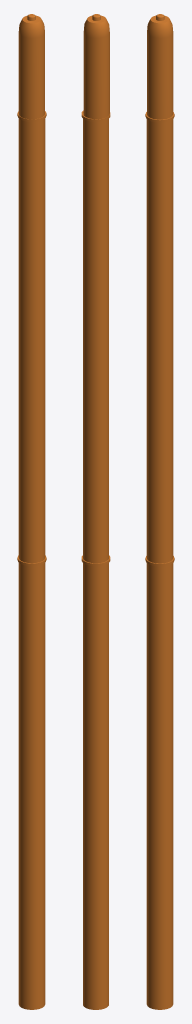
The model's file is Tank_05.fbx.
3 views of the same model, side by side, from view 1: azimuth 90°, elevation 25°; view 2: azimuth 150°, elevation 25°; view 3: azimuth 270°, elevation 25° (orthographic).
Parts seen in each view (by area): view 1: Tank_05; view 2: Tank_05; view 3: Tank_05.
Boxes of the visible parts, x1,y1,x2,y2 form: Tank_05: [17, 14, 46, 1009]; Tank_05: [81, 14, 110, 1009]; Tank_05: [145, 14, 174, 1009].
Bounding box in the file's own units: 541 × 20347 × 541.
